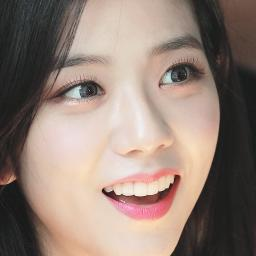face: (36, 0, 218, 256)
